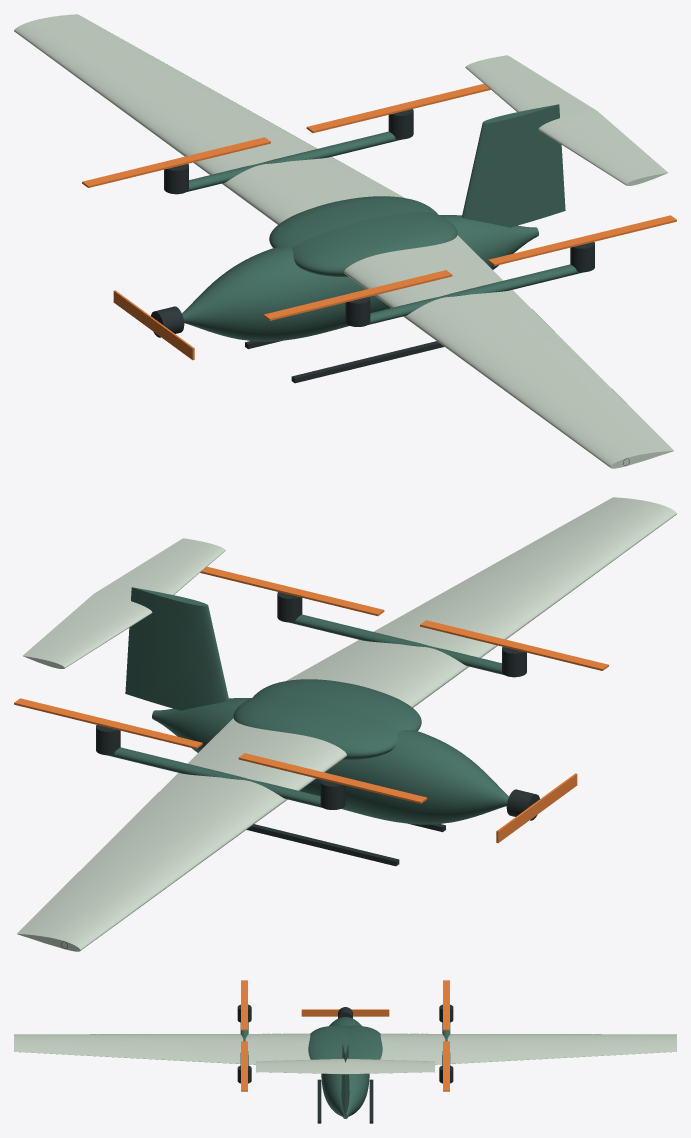
Rendered from control-03-model.glb.
3 renders of one model, top to bottom at view 1: azimuth 30°, elevation 25°; view 2: azimuth 150°, elevation 25°; view 3: azimuth 270°, elevation 25°, orthographic. The views are drawn at different scales.
Visible parts, largest first — view 1: wing-1, wing1, fuselage, fin, root_fairing-1, tail-1, root_fairing1, tail1, boom_fairing-1, boom_fairing1, prop_-1_700.0, prop_-1_200.0 (+7 smaller); view 2: wing1, wing-1, fuselage, fin, root_fairing1, tail1, root_fairing-1, tail-1, boom_fairing1, boom_fairing-1, prop_1_700.0, prop_1_200.0 (+7 smaller); view 3: wing-1, wing1, fuselage, tail-1, tail1, root_fairing-1, root_fairing1, cruise_prop, fin, prop_-1_200.0, prop_-1_700.0, prop_1_200.0 (+1 smaller).
Boxes of the visible parts, left/top/right/bottom form: wing-1: left=344, top=235, right=673, bottom=468; wing1: left=14, top=14, right=404, bottom=224; fuselage: left=182, top=215, right=538, bottom=341; fin: left=462, top=104, right=565, bottom=227; root_fairing-1: left=292, top=212, right=457, bottom=276; tail-1: left=538, top=111, right=668, bottom=185; root_fairing1: left=269, top=196, right=438, bottom=248; tail1: left=465, top=55, right=596, bottom=117; boom_fairing-1: left=368, top=264, right=583, bottom=324; boom_fairing1: left=187, top=131, right=402, bottom=191; prop_-1_700.0: left=488, top=215, right=676, bottom=265; prop_-1_200.0: left=263, top=270, right=452, bottom=320; wing1: left=17, top=718, right=346, bottom=951; wing-1: left=286, top=497, right=676, bottom=707; fuselage: left=152, top=698, right=508, bottom=824; fin: left=125, top=587, right=228, bottom=710; root_fairing1: left=233, top=695, right=398, bottom=759; tail1: left=22, top=594, right=152, bottom=668; root_fairing-1: left=252, top=679, right=421, bottom=731; tail-1: left=94, top=538, right=225, bottom=600; boom_fairing1: left=107, top=747, right=322, bottom=807; boom_fairing-1: left=288, top=614, right=503, bottom=674; prop_1_700.0: left=14, top=698, right=202, bottom=748; prop_1_200.0: left=238, top=753, right=427, bottom=803; wing-1: left=14, top=1033, right=310, bottom=1064; wing1: left=380, top=1033, right=676, bottom=1064; fuselage: left=321, top=1017, right=369, bottom=1118; tail-1: left=256, top=1058, right=345, bottom=1074; tail1: left=345, top=1058, right=434, bottom=1074; root_fairing-1: left=308, top=1025, right=345, bottom=1059; root_fairing1: left=345, top=1025, right=382, bottom=1059; cruise_prop: left=301, top=1009, right=389, bottom=1016; fin: left=341, top=1034, right=349, bottom=1116; prop_-1_200.0: left=241, top=980, right=247, bottom=1030; prop_-1_700.0: left=241, top=1041, right=247, bottom=1091; prop_1_200.0: left=443, top=980, right=449, bottom=1030.
Bounding box in the file's own units: 989 × 405 × 2300.
